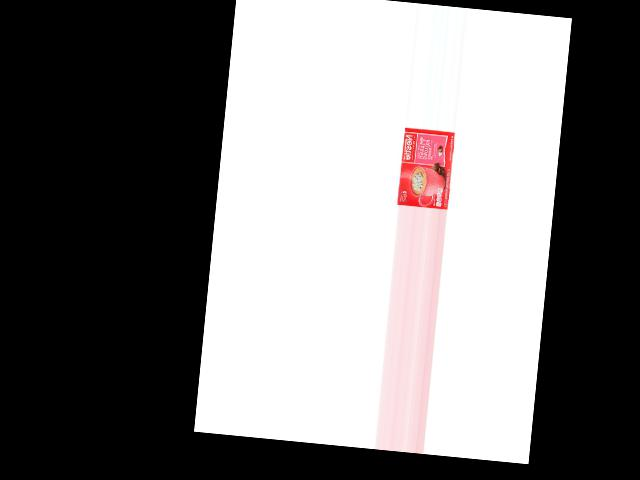chocolate: (399, 129, 458, 210)
